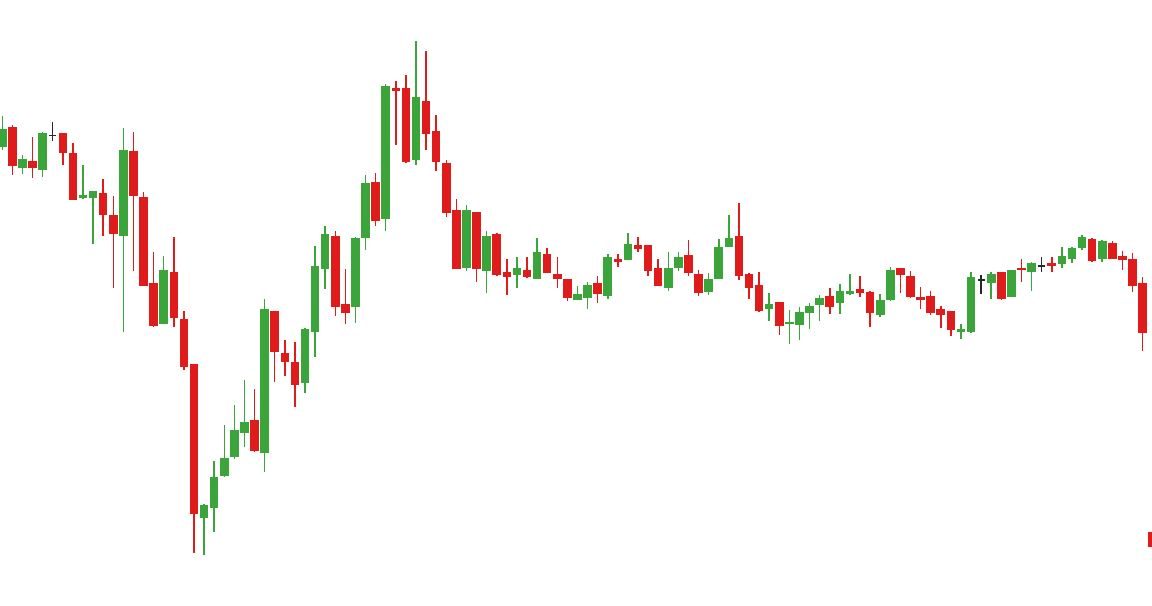sell: (621, 196, 747, 288)
